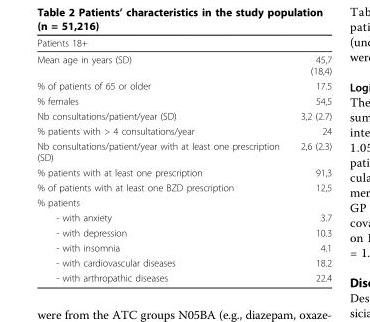table: (36, 36, 331, 283)
table column: (36, 36, 289, 283), (289, 36, 331, 283)
table column header: (36, 36, 331, 50)
table projected row header: (36, 194, 331, 209)
table row: (36, 50, 331, 77), (36, 138, 331, 164), (36, 77, 331, 93), (36, 254, 331, 270), (36, 93, 331, 108), (36, 108, 331, 123), (36, 123, 331, 138), (36, 164, 331, 179), (36, 179, 331, 194), (36, 194, 331, 209), (36, 209, 331, 224), (36, 224, 331, 239), (36, 239, 331, 254), (36, 36, 331, 50), (36, 270, 331, 283)
